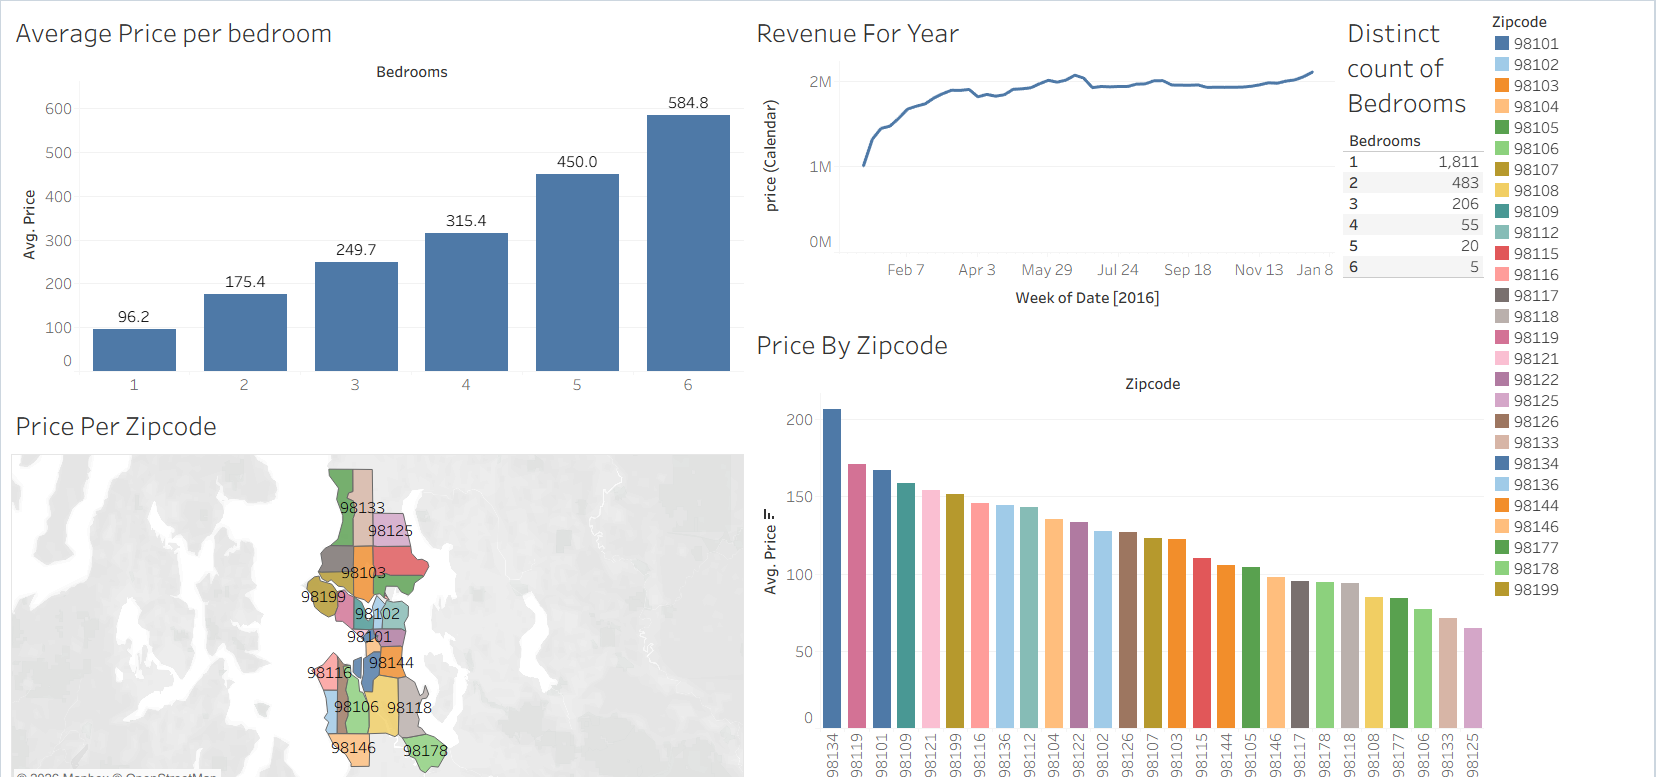

This screenshot's page, from the dashboard's own definition file:
{"tool":"tableau","page":{"name":"Dashboard 1","canvas":[1000,1000],"units":"permille","ordinal":0},"visuals":[{"type":"worksheet","title":"Sheet 4","mark":"Automatic","rows":["price"],"cols":["bedrooms"],"box":[4.8,10,446.9,490]},{"type":"worksheet","title":"Sheet 3","mark":"Automatic","rows":["price (Calendar)"],"cols":["date"],"box":[451.7,10,357,389.5]},{"type":"worksheet","title":"Sheet 5","mark":"Automatic","rows":["bedrooms"],"box":[808.7,10,89.9,389.5]},{"type":"legend","title":"Sheet 1","param":"[federated.06xwv081uac7p117onr5h1jknqhi].[none:zipcode:ok]","box":[898.6,10,96.6,745.3]},{"type":"worksheet","title":"Sheet 1","mark":"Automatic","rows":["price"],"cols":["zipcode"],"box":[451.7,399.5,446.9,590.5]},{"type":"worksheet","title":"Sheet 2","mark":"Multipolygon","box":[4.8,500,446.9,490]}]}

Visuals, with their boxes on the dashboard's canvas, which has no fixed pixel size, in thousandths of its width and height (x1, y1, x2, y2). These are canvas units, not pixel positions in the 1656x777 screenshot, which may show the page scaled, cropped or inside an application window:
"Sheet 4" worksheet: locate(5, 10, 452, 500)
"Sheet 3" worksheet: locate(452, 10, 809, 400)
"Sheet 5" worksheet: locate(809, 10, 899, 400)
"Sheet 1" legend: locate(899, 10, 995, 755)
"Sheet 1" worksheet: locate(452, 400, 899, 990)
"Sheet 2" worksheet (Multipolygon marks): locate(5, 500, 452, 990)
